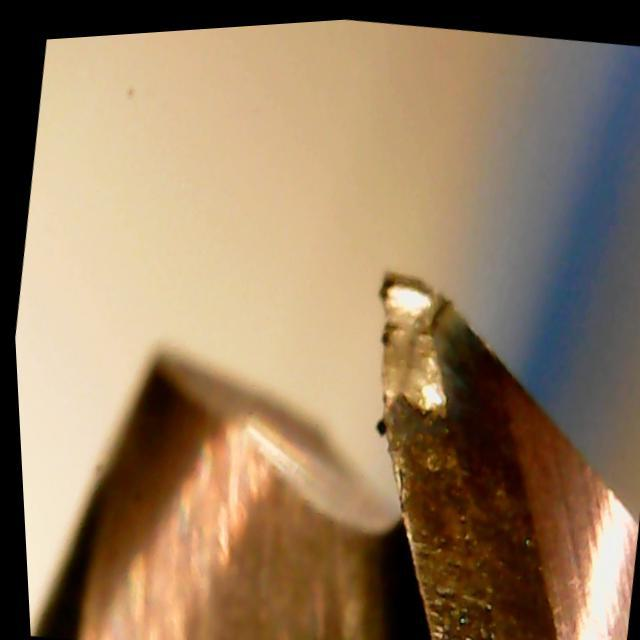Tool-wear-class-2: (299, 245, 552, 635)
